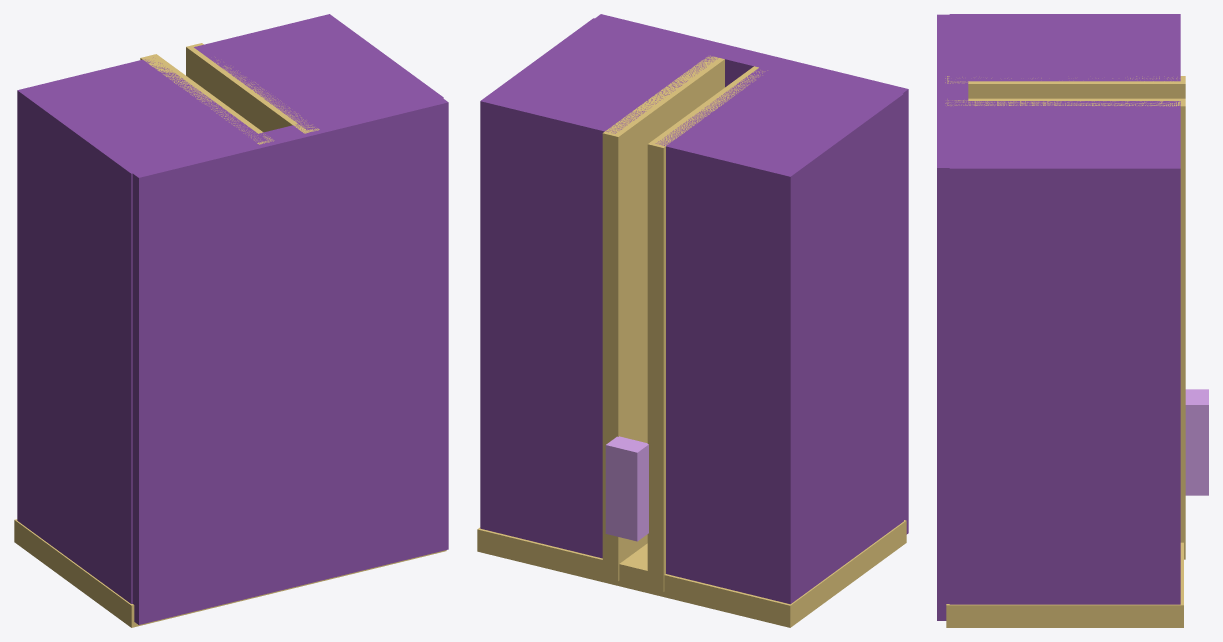
The model's file is mago_sombrio_saia.glb.
3 renders of one model, left to right at view 1: azimuth 30°, elevation 25°; view 2: azimuth 150°, elevation 25°; view 3: azimuth 270°, elevation 25°, orthographic. The views are drawn at different scales.
Visible parts, largest first — view 1: mago_sombrio_saia; view 2: mago_sombrio_saia; view 3: mago_sombrio_saia.
Part boxes in pixels (left/top/right/bottom): mago_sombrio_saia: left=14, top=14, right=448, bottom=627; mago_sombrio_saia: left=477, top=14, right=908, bottom=627; mago_sombrio_saia: left=937, top=14, right=1208, bottom=627.
Size of the model in its own units: 0.59 by 0.81 by 0.435.
